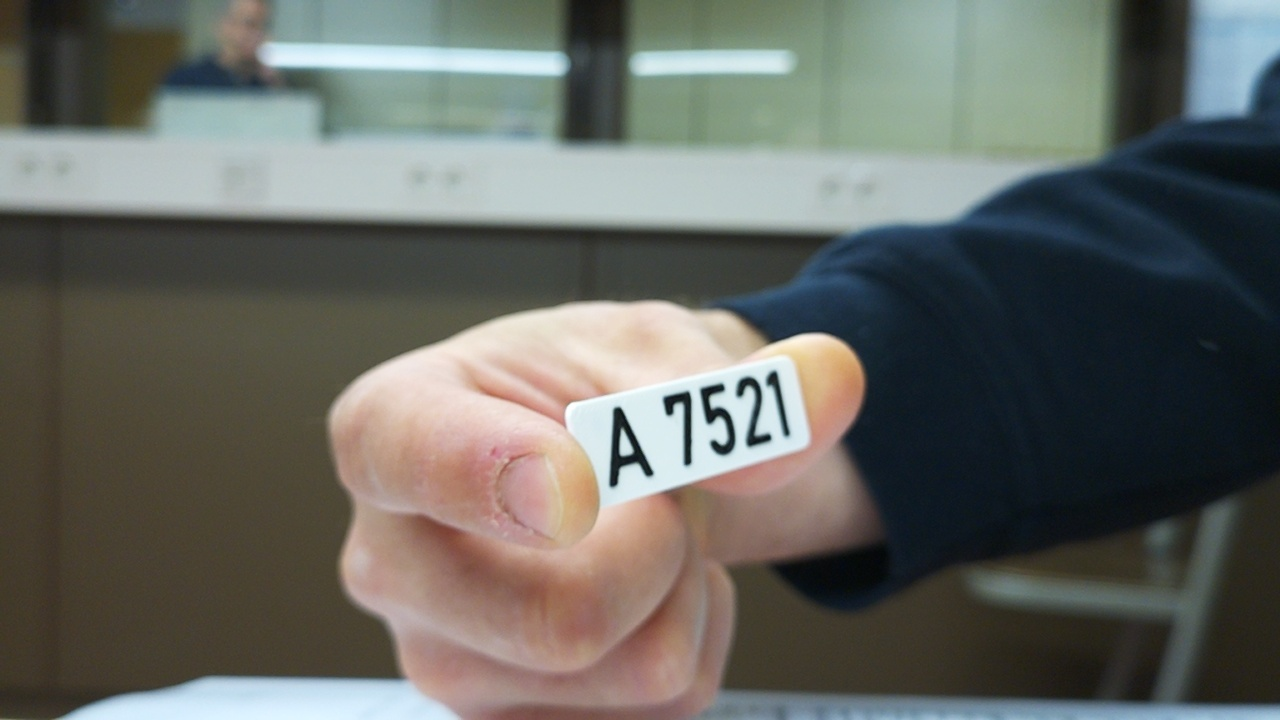license_plate: (560, 350, 819, 506)
